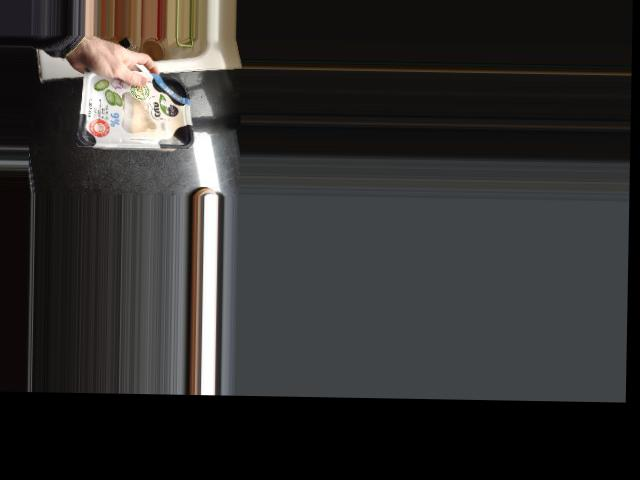cheese: (77, 62, 192, 149)
